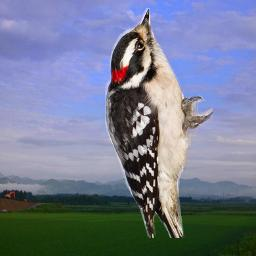Woodpecker: (105, 8, 213, 238)
